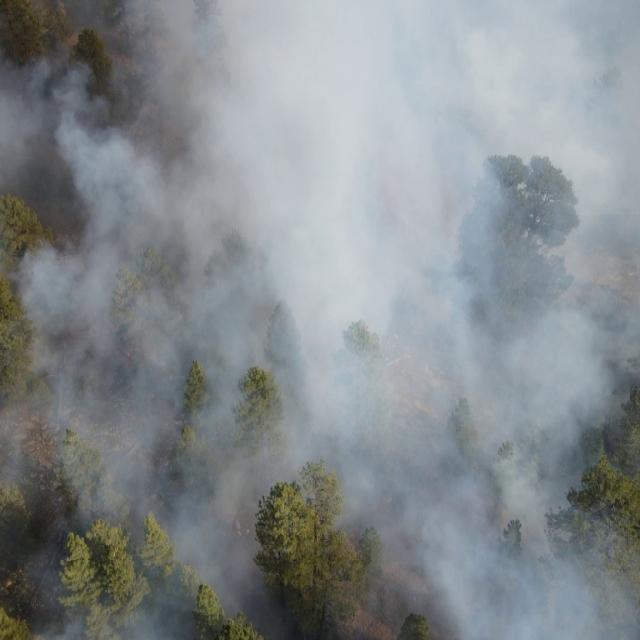smoke: (62, 0, 364, 544), (366, 0, 610, 640), (22, 545, 286, 640), (0, 240, 60, 540), (610, 0, 640, 478), (0, 46, 59, 200), (611, 505, 640, 640)
